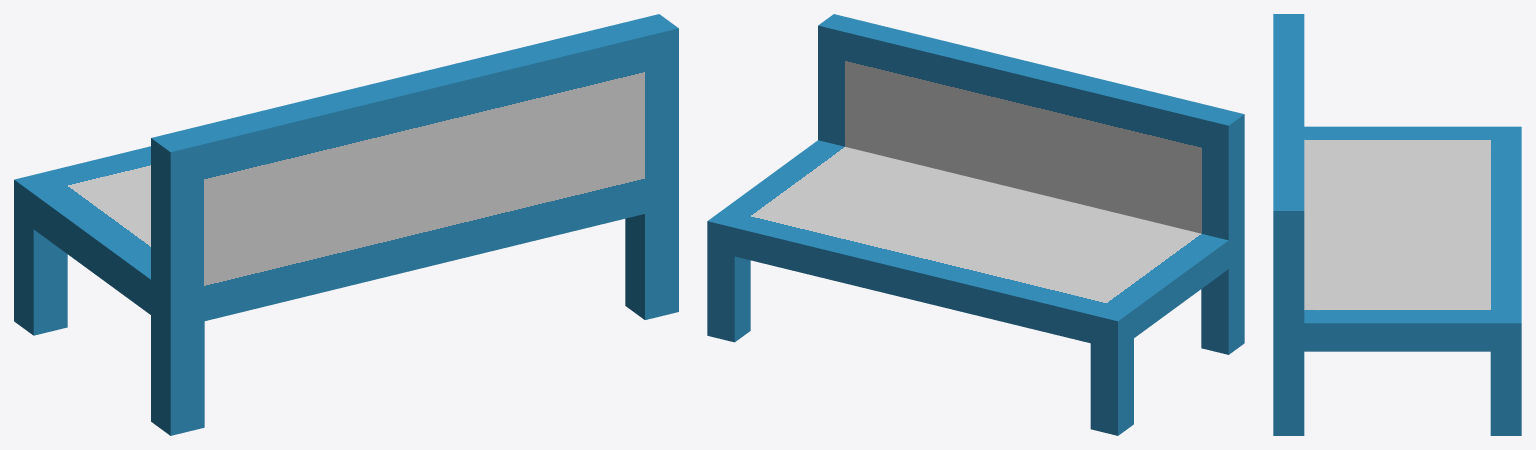
Rendered from obj_bench1.fbx.
3 views of the same model, side by side, from view 1: azimuth 30°, elevation 25°; view 2: azimuth 150°, elevation 25°; view 3: azimuth 270°, elevation 25° (orthographic). The views are drawn at different scales.
Parts seen in each view (by area): view 1: obj_bench1; view 2: obj_bench1; view 3: obj_bench1.
Part boxes in pixels (x1,y1,x2,y2): obj_bench1: (14, 14, 678, 435); obj_bench1: (707, 14, 1244, 435); obj_bench1: (1273, 14, 1521, 435).
Size of the model in its own units: 1.5 by 0.8 by 0.8.
1 material, 1 textured.
